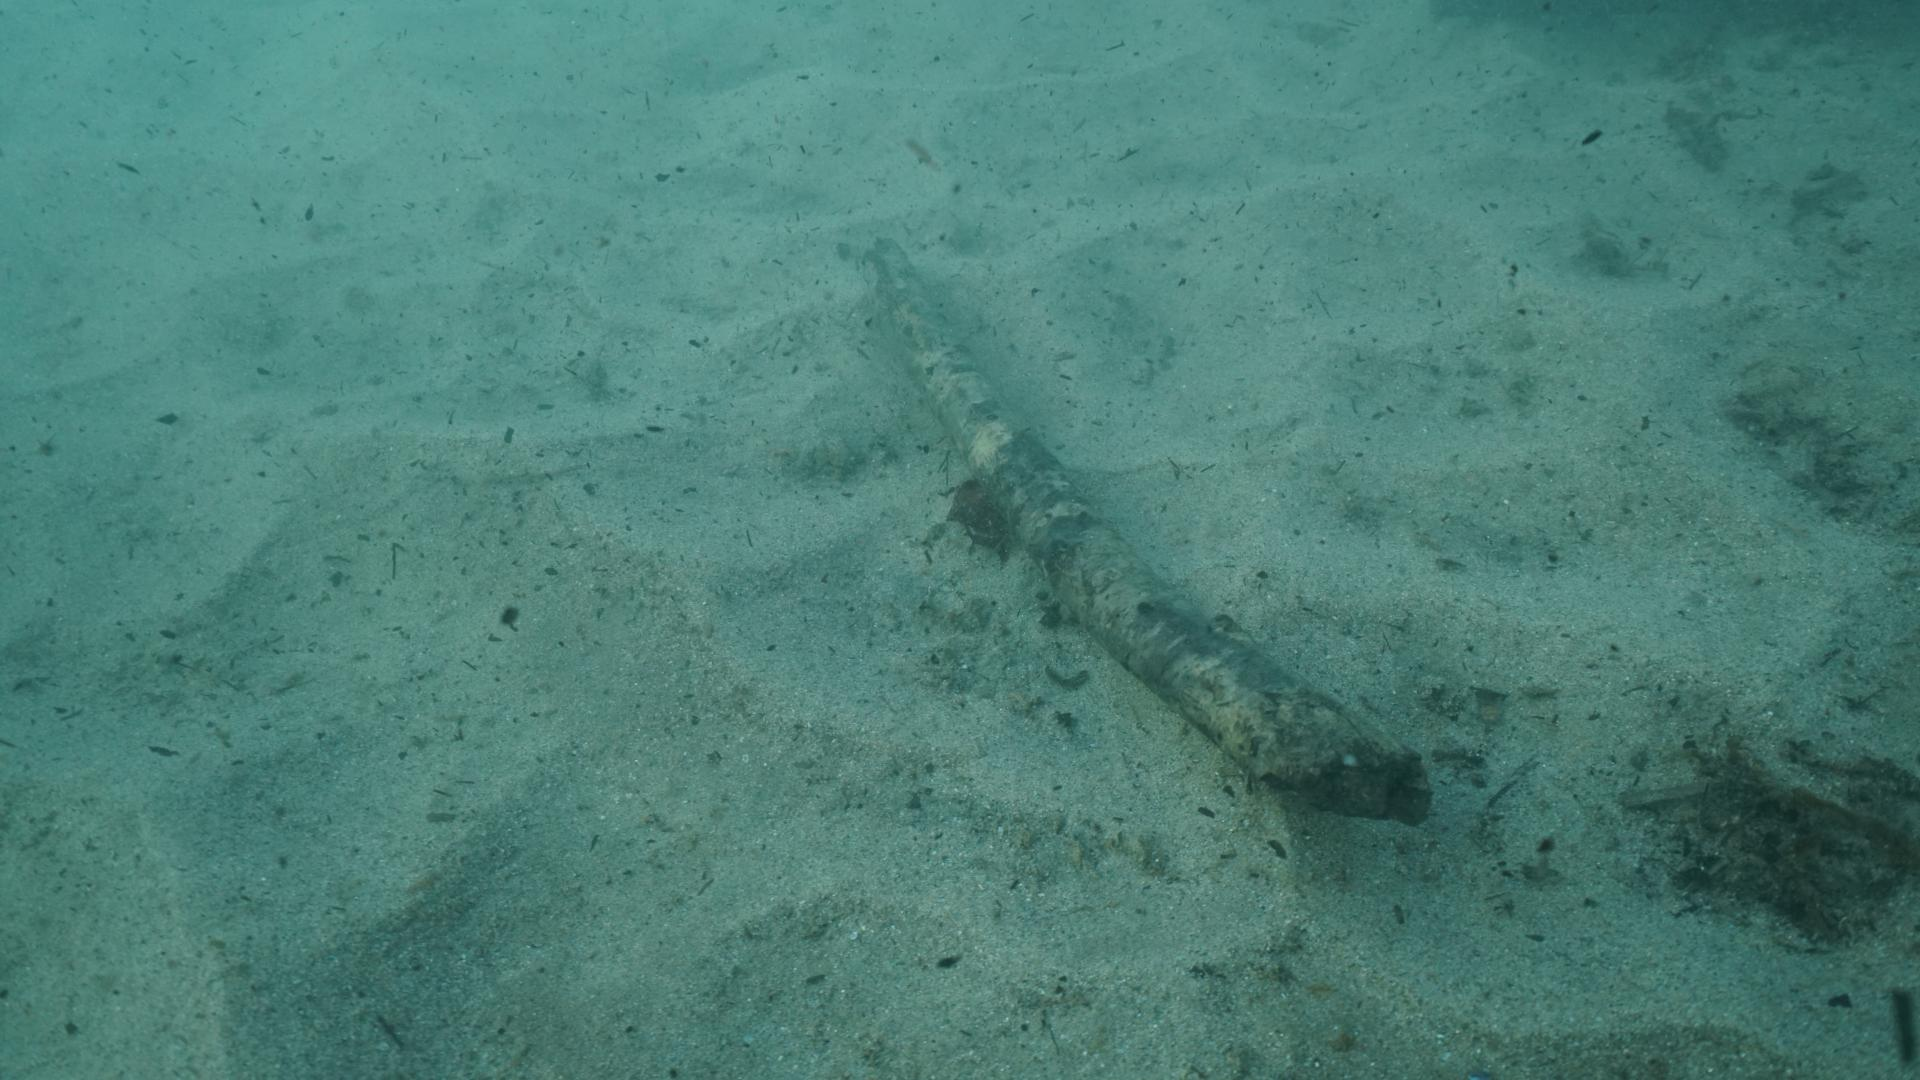wood: (856, 235, 1433, 825)
